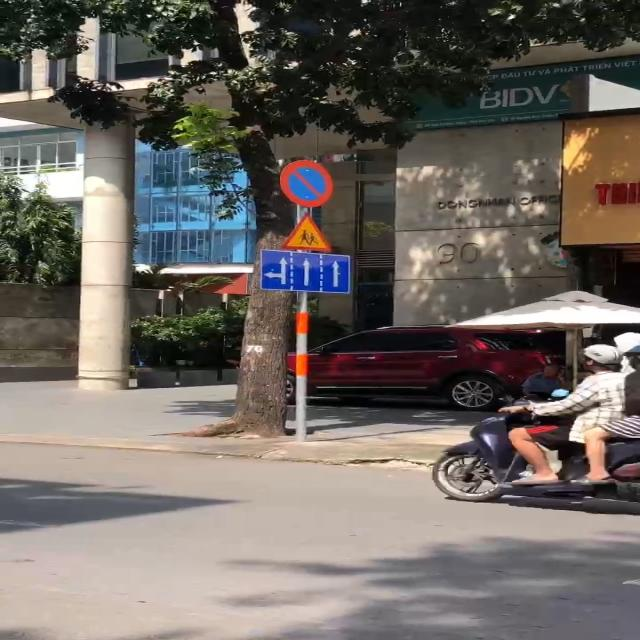Bien bao cam do xe: (277, 157, 333, 209)
Bien bao tre em: (277, 211, 332, 253)
